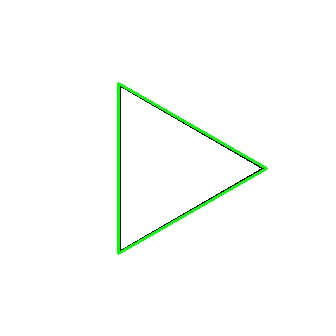line_segment: (117, 83, 267, 254)
